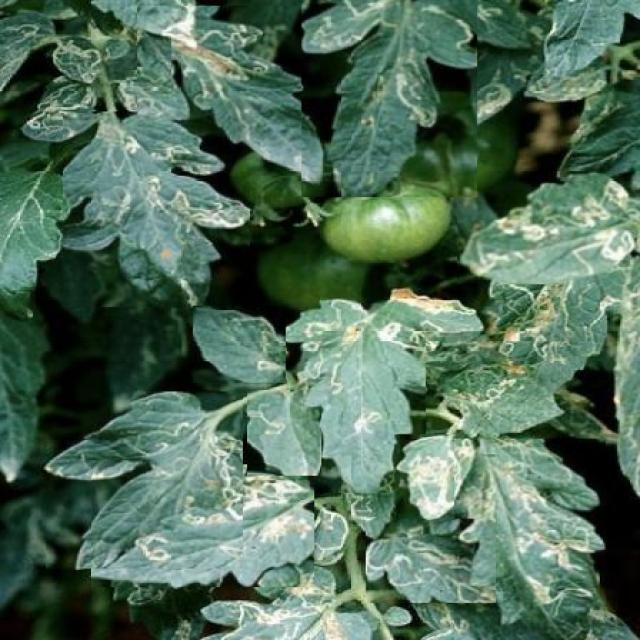Leaf Miner: (63, 112, 250, 307), (46, 391, 243, 569), (302, 0, 477, 197), (137, 6, 323, 176), (454, 438, 605, 640), (90, 465, 314, 588), (286, 299, 426, 494), (457, 170, 640, 284), (366, 518, 496, 603), (193, 306, 293, 383), (394, 434, 477, 522), (247, 390, 322, 476)
